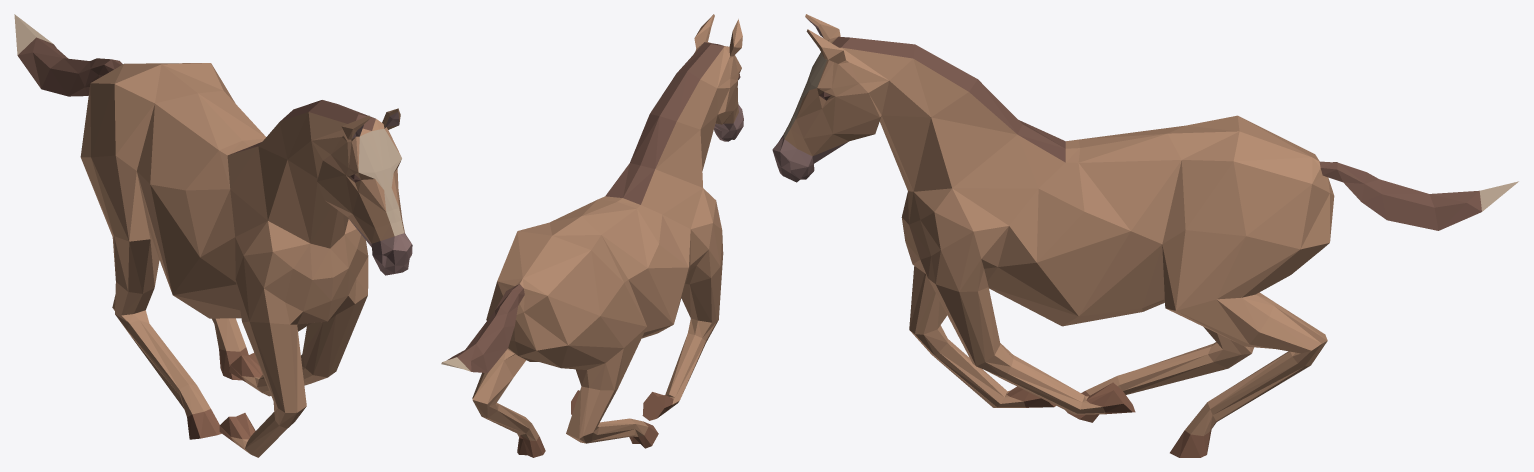
Rendered from Horse.glb.
3 views of the same model, side by side, from view 1: azimuth 30°, elevation 25°; view 2: azimuth 150°, elevation 25°; view 3: azimuth 270°, elevation 25° (orthographic). The views are drawn at different scales.
Visible parts, largest first — view 1: mesh_0; view 2: mesh_0; view 3: mesh_0.
Boxes of the visible parts, box(x1,y1,x2,y2) form: mesh_0: box(14, 14, 412, 457); mesh_0: box(441, 14, 743, 457); mesh_0: box(772, 14, 1518, 457).
Size of the model in its own units: 66.3 by 170 by 277.
